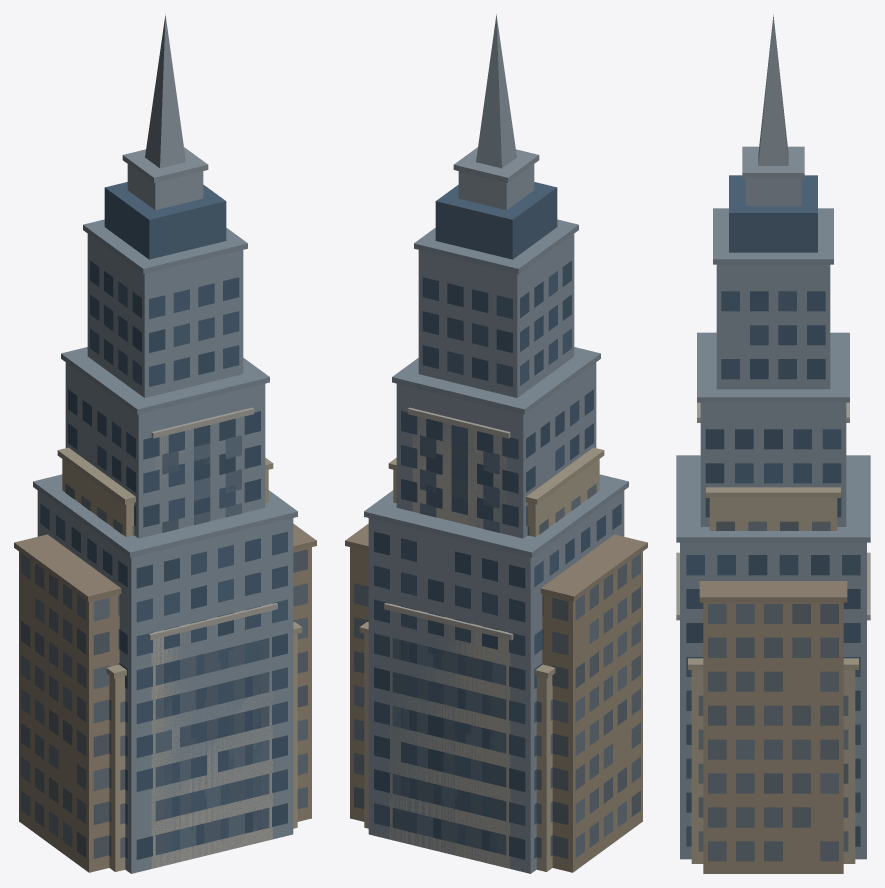
The model's file is torre.glb.
The picture shows the model from 3 angles, left to right: view 1: azimuth 30°, elevation 25°; view 2: azimuth 150°, elevation 25°; view 3: azimuth 270°, elevation 25°; orthographic projection.
Parts seen in each view (by area): view 1: hd_5, hd_5_windows, hd_3, hd_3_windows, hd_4_windows, hd_4, hd_1, hd_2, hd_1_windows; view 2: hd_5, hd_5_windows, hd_3, hd_4, hd_3_windows, hd_4_windows, hd_1, hd_2, hd_1_windows; view 3: hd_5, hd_3, hd_3_windows, hd_5_windows, hd_1, hd_2, hd_1_windows, hd_4.
Boxes of the visible parts, <box> form: hd_5: <box>33,182,297,873</box>; hd_5_windows: <box>40,260,287,859</box>; hd_3: <box>14,523,316,872</box>; hd_3_windows: <box>21,549,307,858</box>; hd_4_windows: <box>155,435,269,855</box>; hd_4: <box>148,407,277,868</box>; hd_1: <box>57,447,302,871</box>; hd_2: <box>122,14,208,210</box>; hd_1_windows: <box>65,483,134,858</box>; hd_5: <box>364,182,628,873</box>; hd_5_windows: <box>374,260,621,859</box>; hd_3: <box>345,523,647,872</box>; hd_4: <box>384,407,513,868</box>; hd_3_windows: <box>354,553,640,858</box>; hd_4_windows: <box>392,435,506,855</box>; hd_1: <box>359,447,604,871</box>; hd_2: <box>453,14,539,210</box>; hd_1_windows: <box>527,483,596,858</box>; hd_5: <box>676,175,870,859</box>; hd_3: <box>699,581,847,873</box>; hd_3_windows: <box>708,604,838,861</box>; hd_5_windows: <box>686,291,860,846</box>; hd_1: <box>688,487,858,863</box>; hd_2: <box>742,14,804,205</box>; hd_1_windows: <box>698,521,848,851</box>; hd_4: <box>676,402,870,620</box>.
Bounding box in the file's own units: 22.6 × 76 × 16.6.
